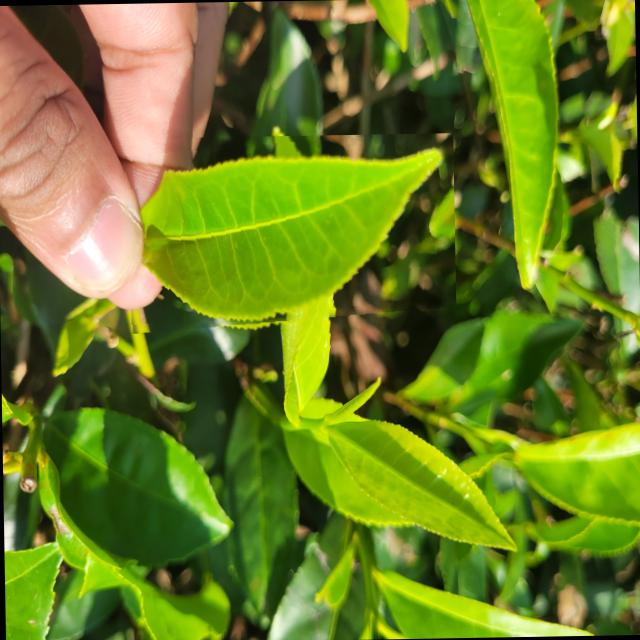Catagory A 1-2 days: (123, 132, 456, 334)
